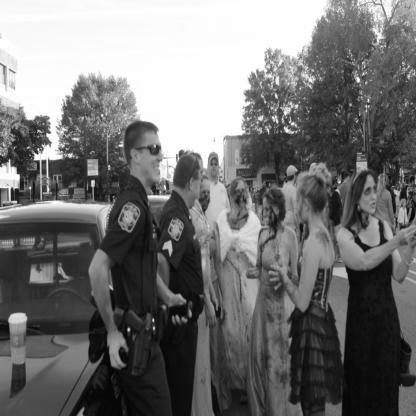car: (4, 195, 126, 416)
